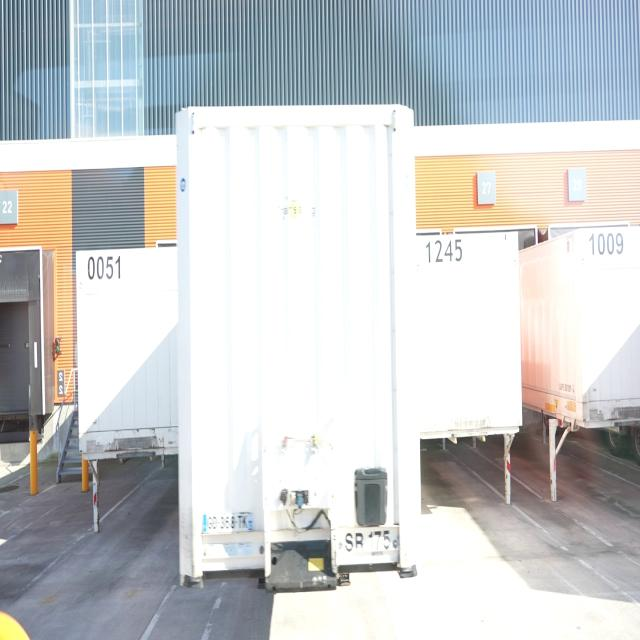Code: (423, 235, 466, 266), (586, 226, 624, 261), (84, 250, 123, 282)
